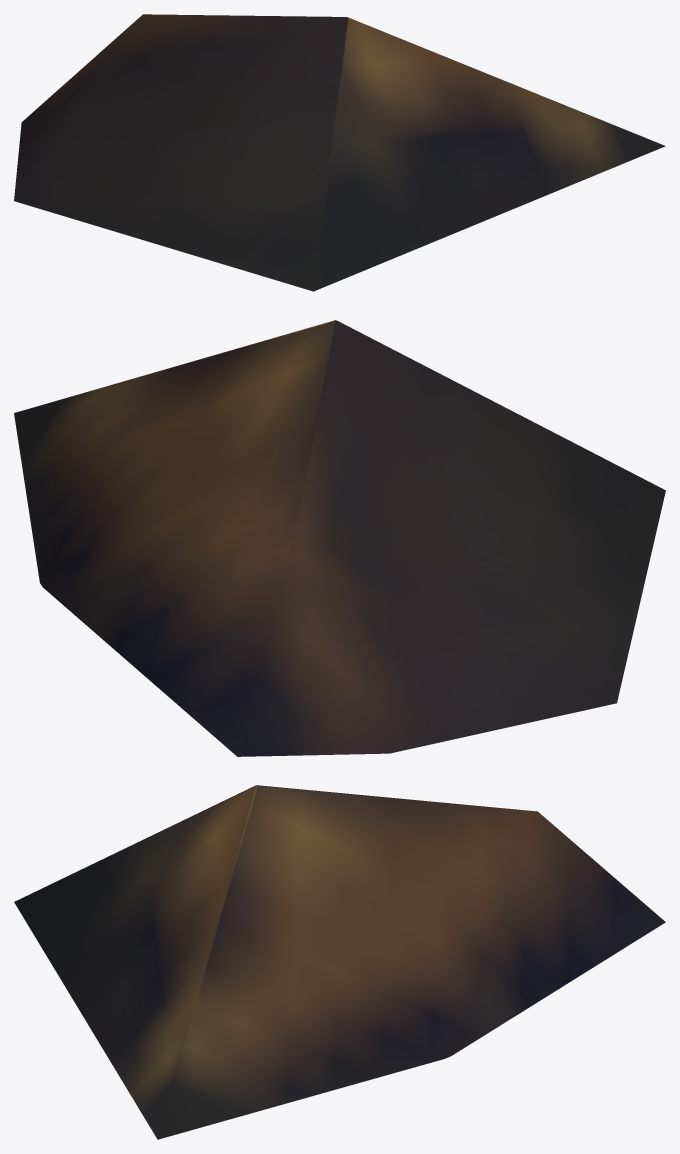
File: HuBian_NightShitou11_fbx.FBX
3 renders of one model, top to bottom at view 1: azimuth 30°, elevation 25°; view 2: azimuth 150°, elevation 25°; view 3: azimuth 270°, elevation 25°, orthographic. The views are drawn at different scales.
Visible parts, largest first — view 1: Object075; view 2: Object075; view 3: Object075.
Boxes of the visible parts, box(x1,y1,x2,y2) form: Object075: box(14, 14, 665, 291); Object075: box(14, 320, 665, 756); Object075: box(14, 785, 665, 1139).
Bounding box in the file's own units: 0.4139 × 0.1199 × 0.3636.
